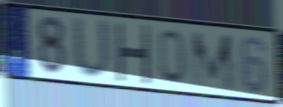0: (157, 28, 190, 87)
6: (238, 34, 269, 96)
8: (36, 15, 69, 76)
H: (113, 20, 152, 87)
M: (189, 31, 238, 93)
U: (70, 14, 114, 83)
